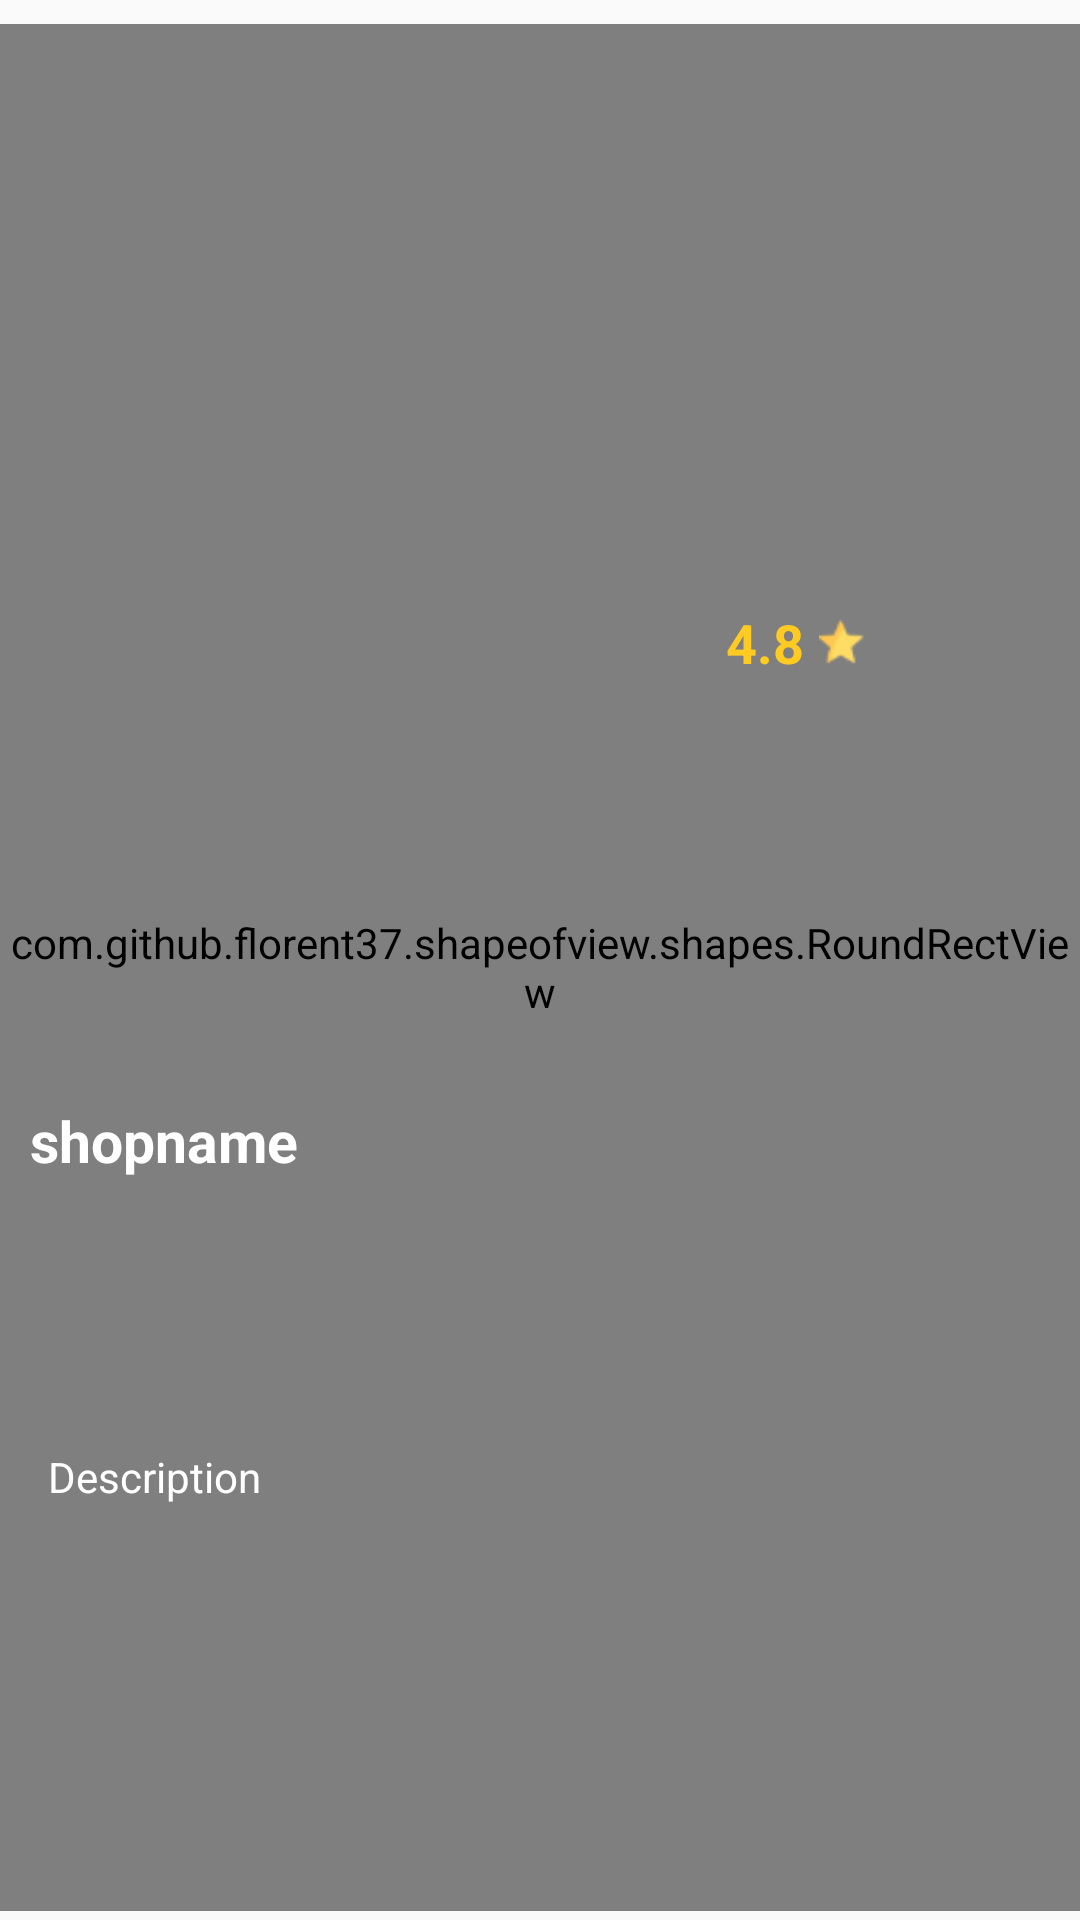

Icons on this 1080px x 1920px Android screen, each with its box as (x1, y1, x2, y2):
yellowstar: (819, 620, 864, 663)
